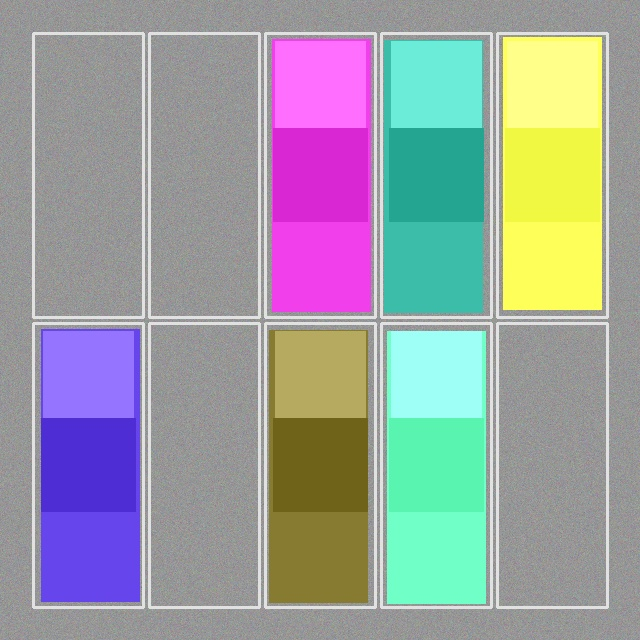space-empty: (35, 35, 141, 315), (151, 35, 257, 315), (151, 325, 257, 605), (499, 325, 605, 605)
space-occupied: (267, 35, 373, 315), (383, 35, 489, 315), (499, 35, 605, 315), (35, 325, 141, 605), (267, 325, 373, 605), (383, 325, 489, 605)
